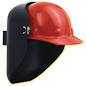helmets: (14, 1, 86, 54)
